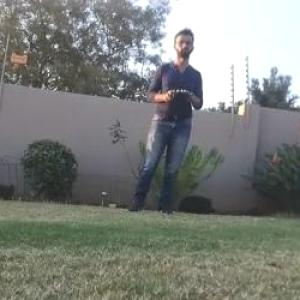follow: (120, 24, 208, 220)
